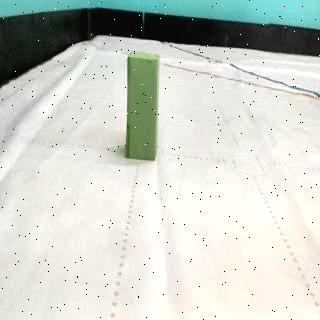greenbox: (122, 46, 162, 164)
